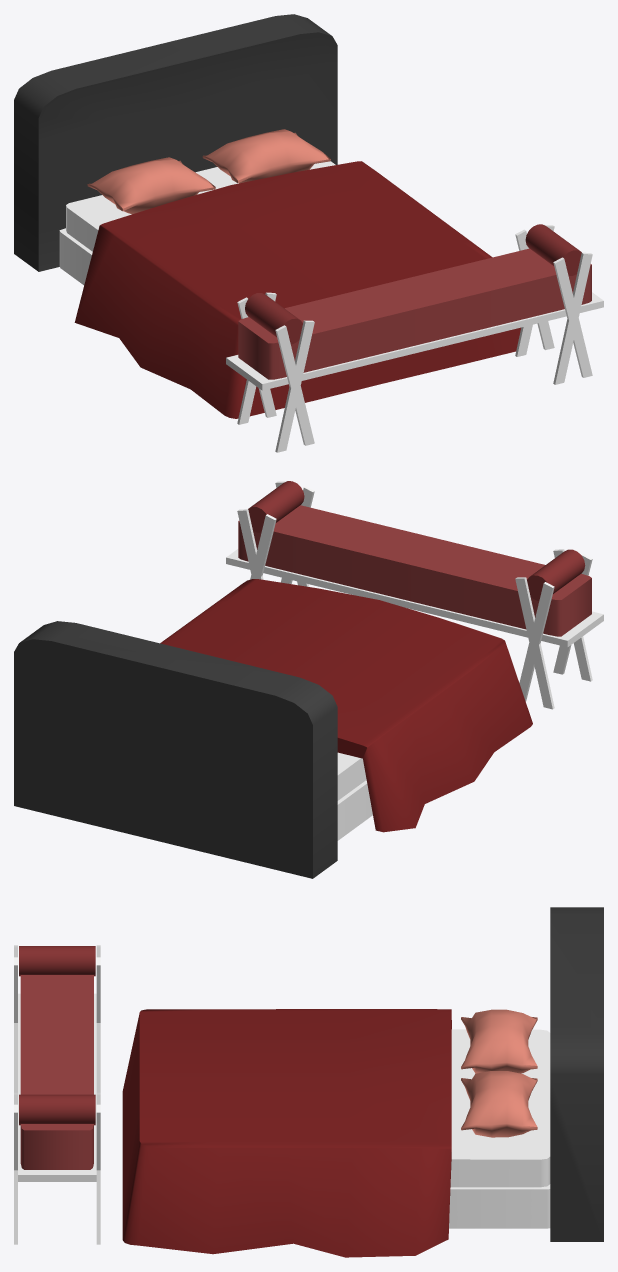
The model's file is Lv3 DoubleBed.fbx.
The picture shows the model from 3 angles, top to bottom: view 1: azimuth 30°, elevation 25°; view 2: azimuth 150°, elevation 25°; view 3: azimuth 270°, elevation 25°; orthographic projection. The views are drawn at different scales.
Parts seen in each view (by area): view 1: Lv3 Bed.003, Lv3 Bed.004; view 2: Lv3 Bed.003, Lv3 Bed.004; view 3: Lv3 Bed.003, Lv3 Bed.004.
Part boxes in pixels (x1=…): Lv3 Bed.003: x1=59, y1=129, x2=603, y2=452; Lv3 Bed.004: x1=14, y1=14, x2=337, y2=271; Lv3 Bed.003: x1=160, y1=481, x2=603, y2=840; Lv3 Bed.004: x1=14, y1=621, x2=337, y2=878; Lv3 Bed.003: x1=14, y1=945, x2=550, y2=1257; Lv3 Bed.004: x1=550, y1=907, x2=603, y2=1241.
Size of the model in its own units: 179 by 89.24 by 247.
